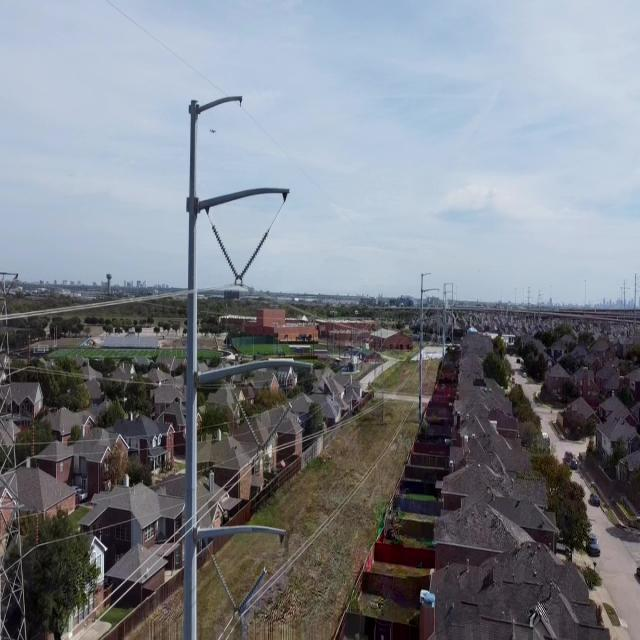正常绝缘子: (226, 217, 280, 300), (223, 557, 274, 634), (204, 211, 248, 295), (203, 545, 247, 626), (254, 393, 297, 464), (228, 385, 268, 458)
